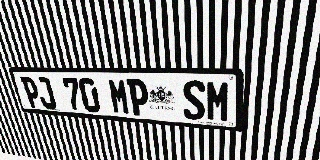0: (77, 78, 101, 113)
7: (61, 77, 84, 111)
J: (34, 77, 57, 109)
M: (206, 81, 231, 123), (107, 78, 131, 115)
P: (127, 79, 150, 116), (20, 77, 43, 108)
S: (182, 80, 206, 121)
